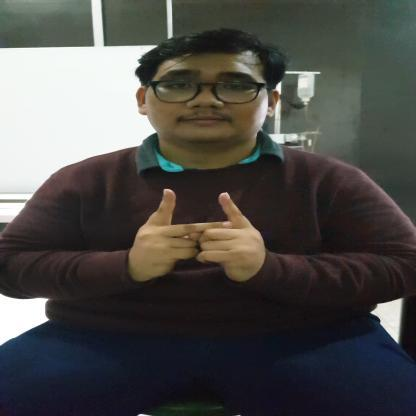H: (127, 188, 270, 282)
